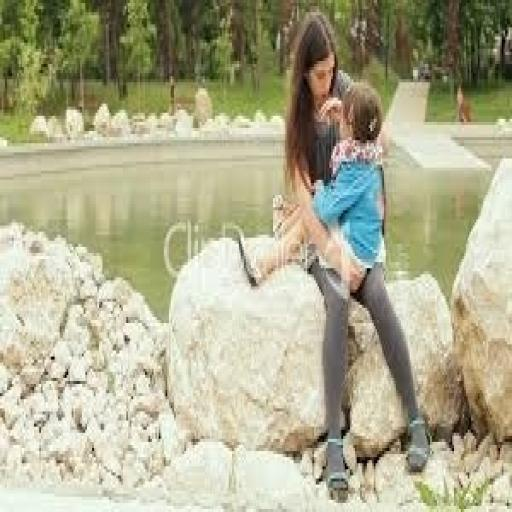hugging: (242, 9, 434, 503)
